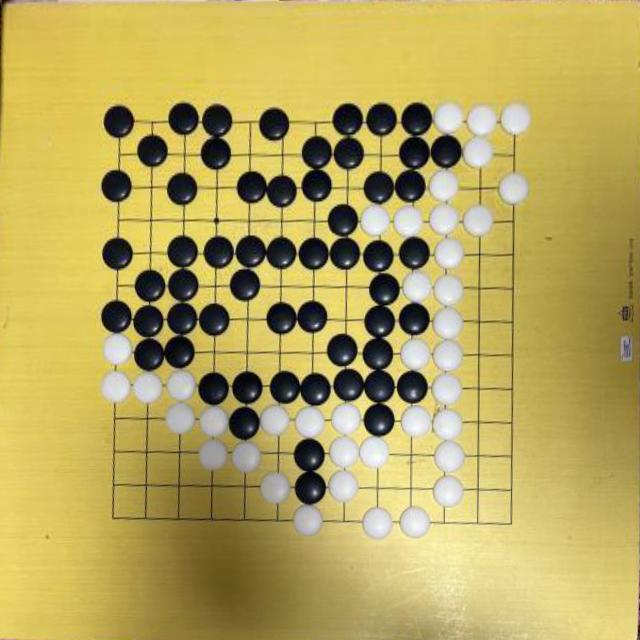blackstone: (293, 438, 326, 473), (363, 368, 395, 404), (167, 235, 199, 269), (133, 304, 165, 338), (198, 372, 230, 406), (164, 335, 196, 369), (231, 372, 263, 406), (228, 407, 260, 441), (364, 403, 396, 437), (295, 471, 327, 505), (333, 368, 365, 402), (430, 135, 462, 168), (201, 104, 233, 137), (363, 240, 395, 273), (167, 303, 199, 336), (300, 373, 332, 406), (362, 338, 394, 371), (102, 237, 133, 271), (101, 300, 132, 334), (135, 269, 166, 303), (395, 169, 426, 203), (134, 338, 165, 372), (399, 136, 430, 170), (397, 370, 428, 404), (369, 272, 400, 306), (101, 170, 132, 203), (137, 134, 168, 167), (167, 172, 198, 205), (230, 269, 261, 302), (168, 268, 199, 301), (398, 237, 429, 270), (366, 102, 397, 135), (327, 334, 358, 367), (398, 303, 429, 336), (365, 305, 396, 338), (270, 371, 301, 404), (364, 171, 394, 205), (334, 136, 364, 170), (201, 138, 232, 170), (259, 108, 290, 140), (199, 304, 230, 336), (266, 302, 297, 334), (297, 301, 328, 333), (104, 105, 134, 138), (237, 170, 267, 203), (169, 102, 199, 135), (302, 169, 332, 202), (328, 204, 358, 237), (402, 102, 432, 135), (236, 235, 266, 268), (330, 237, 360, 270), (266, 237, 296, 270), (267, 175, 297, 207), (204, 236, 234, 268), (333, 103, 363, 135), (299, 238, 329, 270), (302, 136, 332, 168)
whitestone: (327, 469, 359, 504), (400, 338, 432, 372), (432, 408, 464, 442), (434, 439, 466, 473), (401, 404, 433, 438), (431, 373, 463, 406), (434, 474, 466, 507), (259, 472, 291, 505), (402, 270, 433, 304), (329, 436, 360, 470), (433, 274, 465, 306), (466, 104, 498, 136), (432, 340, 464, 372), (399, 506, 431, 538), (362, 507, 394, 539), (500, 102, 531, 135), (428, 169, 459, 202), (429, 202, 460, 235), (434, 237, 465, 270), (393, 205, 424, 238), (199, 405, 230, 438), (359, 436, 390, 469), (331, 403, 362, 436), (102, 332, 132, 366), (361, 204, 391, 238), (101, 370, 131, 404), (499, 174, 530, 206), (433, 307, 464, 339), (231, 442, 262, 474), (463, 204, 493, 237), (463, 136, 493, 169), (198, 438, 228, 471), (295, 406, 325, 439), (133, 372, 163, 404), (166, 402, 196, 434), (260, 404, 290, 436), (293, 504, 323, 536), (166, 370, 196, 401), (434, 102, 464, 132)
